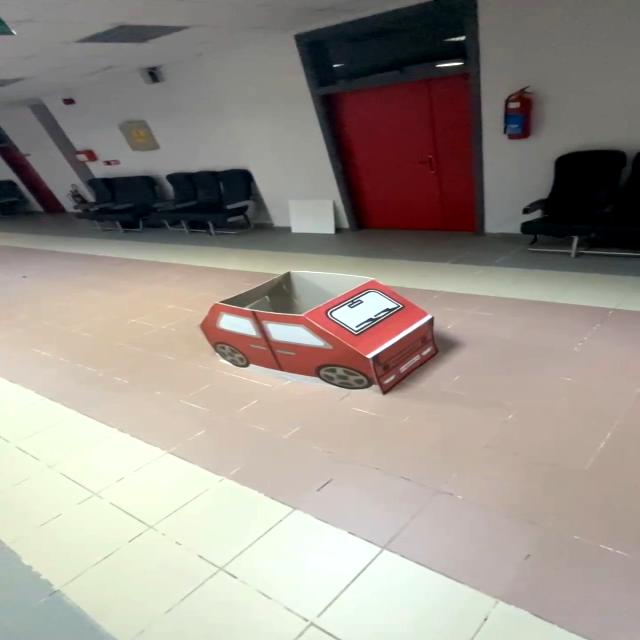red_car: (164, 261, 473, 412)
